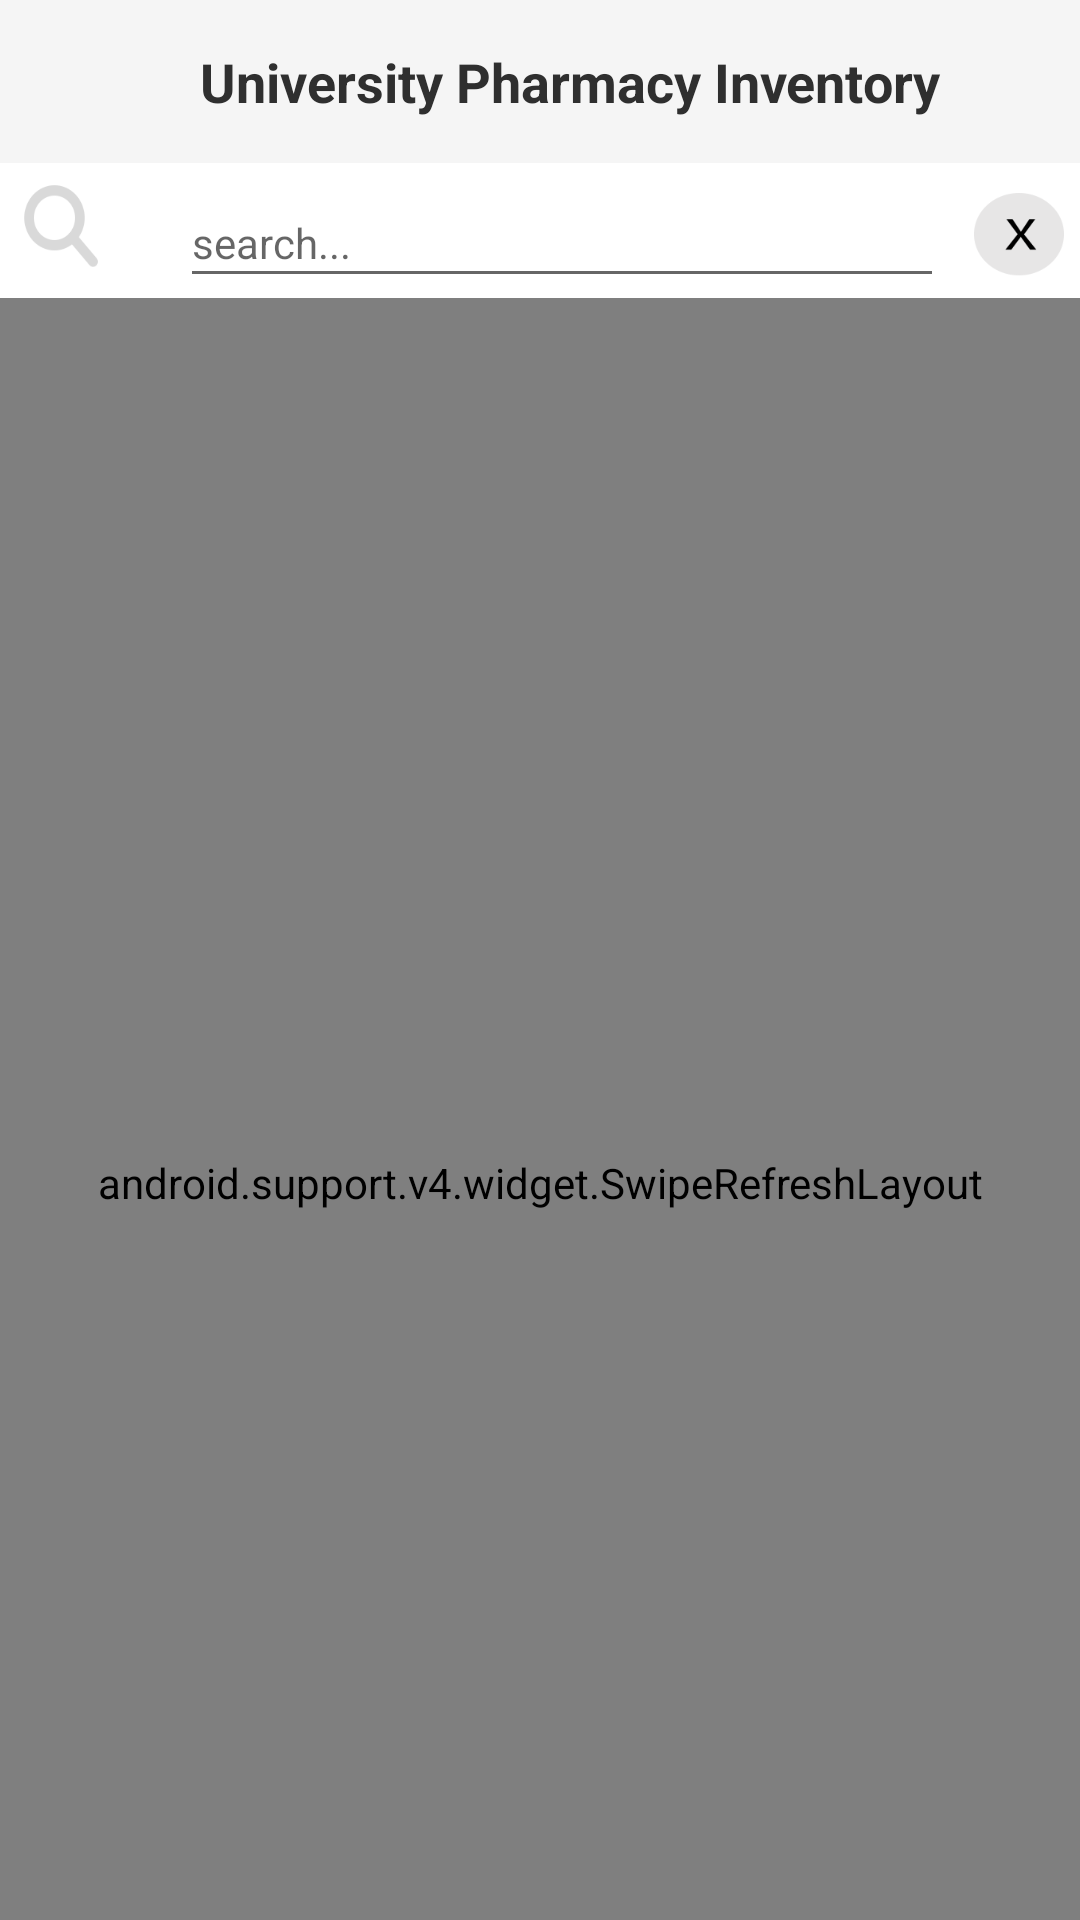

Where to tap for icons on this 1080w x 1920h app screen, as point (x, y):
delettext: point (1019, 234)
